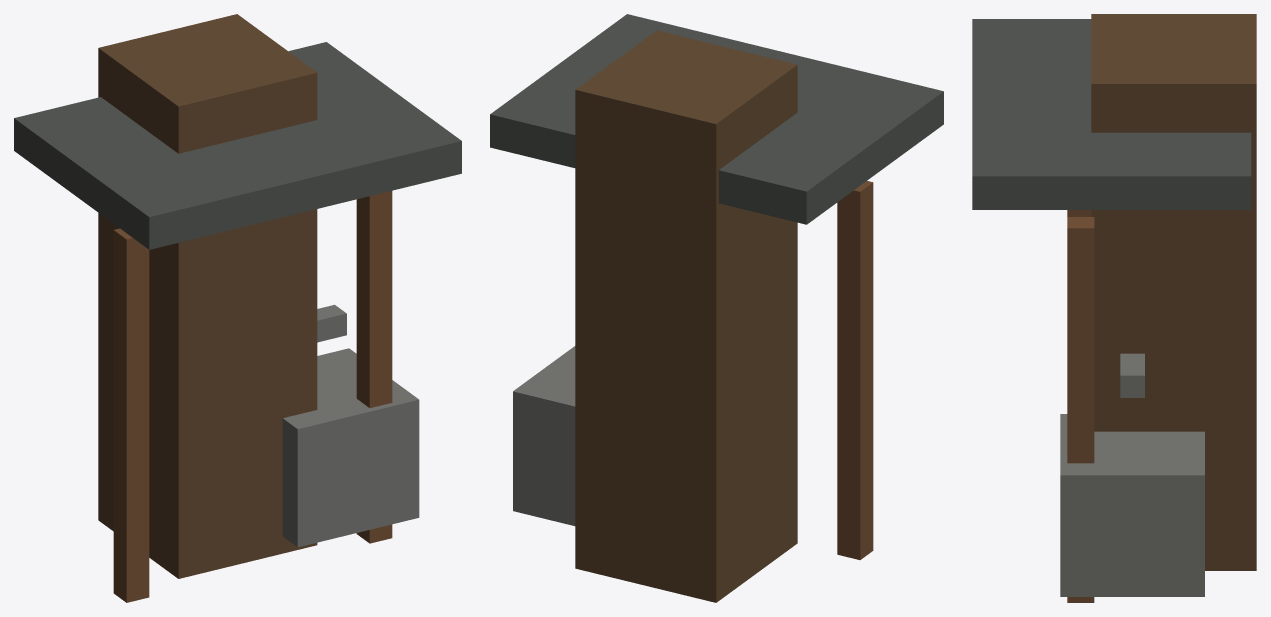
The model's file is sap-collector.source.glb.
The picture shows the model from 3 angles, left to right: view 1: azimuth 30°, elevation 25°; view 2: azimuth 150°, elevation 25°; view 3: azimuth 270°, elevation 25°; orthographic projection. The views are drawn at different scales.
Visible parts, largest first — view 1: sap-collector-trunk-mesh, sap-collector-shelter-roof-mesh, sap-collector-bucket-mesh, sap-collector-post--0.7-mesh, sap-collector-post-0.7-mesh, sap-collector-spile-mesh; view 2: sap-collector-trunk-mesh, sap-collector-shelter-roof-mesh, sap-collector-post--0.7-mesh, sap-collector-bucket-mesh; view 3: sap-collector-trunk-mesh, sap-collector-shelter-roof-mesh, sap-collector-bucket-mesh, sap-collector-post-0.7-mesh, sap-collector-spile-mesh.
Boxes of the visible parts, <box> form: sap-collector-trunk-mesh: <box>98,14,317,578</box>; sap-collector-shelter-roof-mesh: <box>14,42,461,249</box>; sap-collector-bucket-mesh: <box>282,348,419,547</box>; sap-collector-post--0.7-mesh: <box>113,228,149,602</box>; sap-collector-post-0.7-mesh: <box>356,191,392,543</box>; sap-collector-spile-mesh: <box>317,304,346,342</box>; sap-collector-trunk-mesh: <box>575,30,797,602</box>; sap-collector-shelter-roof-mesh: <box>490,14,943,224</box>; sap-collector-post--0.7-mesh: <box>837,181,873,559</box>; sap-collector-bucket-mesh: <box>513,346,575,525</box>; sap-collector-trunk-mesh: <box>1091,14,1256,570</box>; sap-collector-shelter-roof-mesh: <box>972,19,1251,209</box>; sap-collector-bucket-mesh: <box>1060,414,1204,596</box>; sap-collector-post-0.7-mesh: <box>1067,217,1094,602</box>; sap-collector-spile-mesh: <box>1120,353,1144,397</box>.
Bounding box in the file's own units: 1.8 × 2.6 × 1.38.
